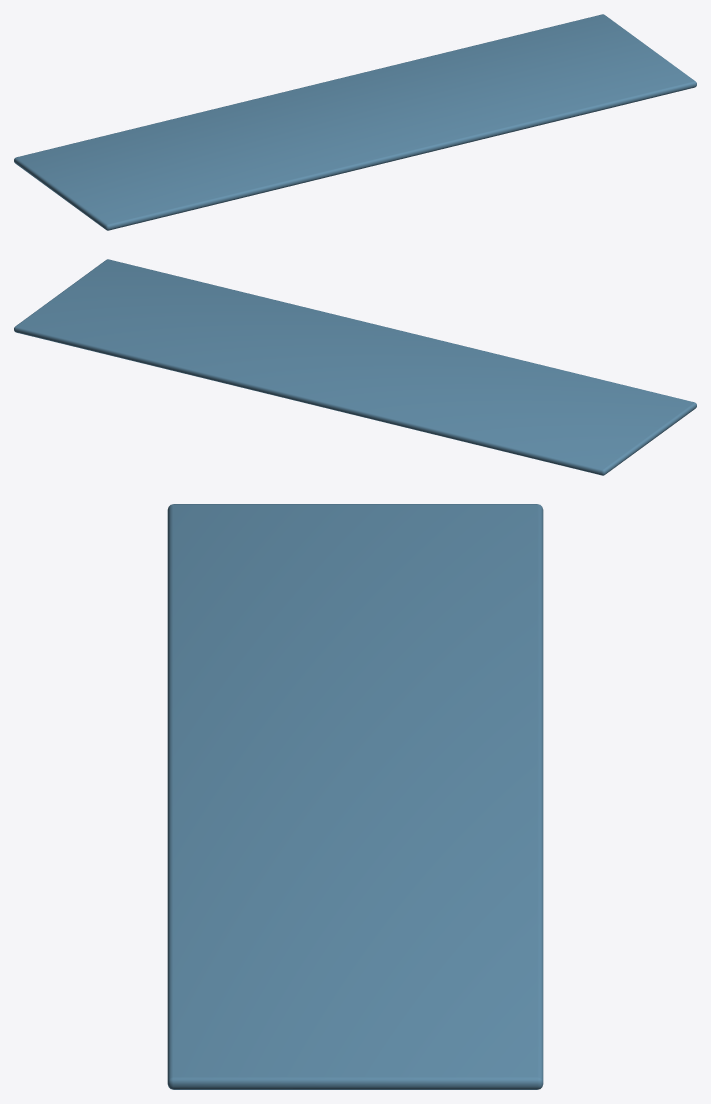
The model's file is rug-runner.glb.
3 views of the same model, one above another, from view 1: azimuth 30°, elevation 25°; view 2: azimuth 150°, elevation 25°; view 3: azimuth 270°, elevation 25° (orthographic). The views are drawn at different scales.
Parts seen in each view (by area): view 1: rug.001; view 2: rug.001; view 3: rug.001.
Boxes of the visible parts, x1,y1,x2,y2 form: rug.001: [14, 14, 696, 230]; rug.001: [14, 259, 696, 475]; rug.001: [167, 504, 543, 1089].
Bounding box in the file's own units: 4 × 0.04 × 1.1.
